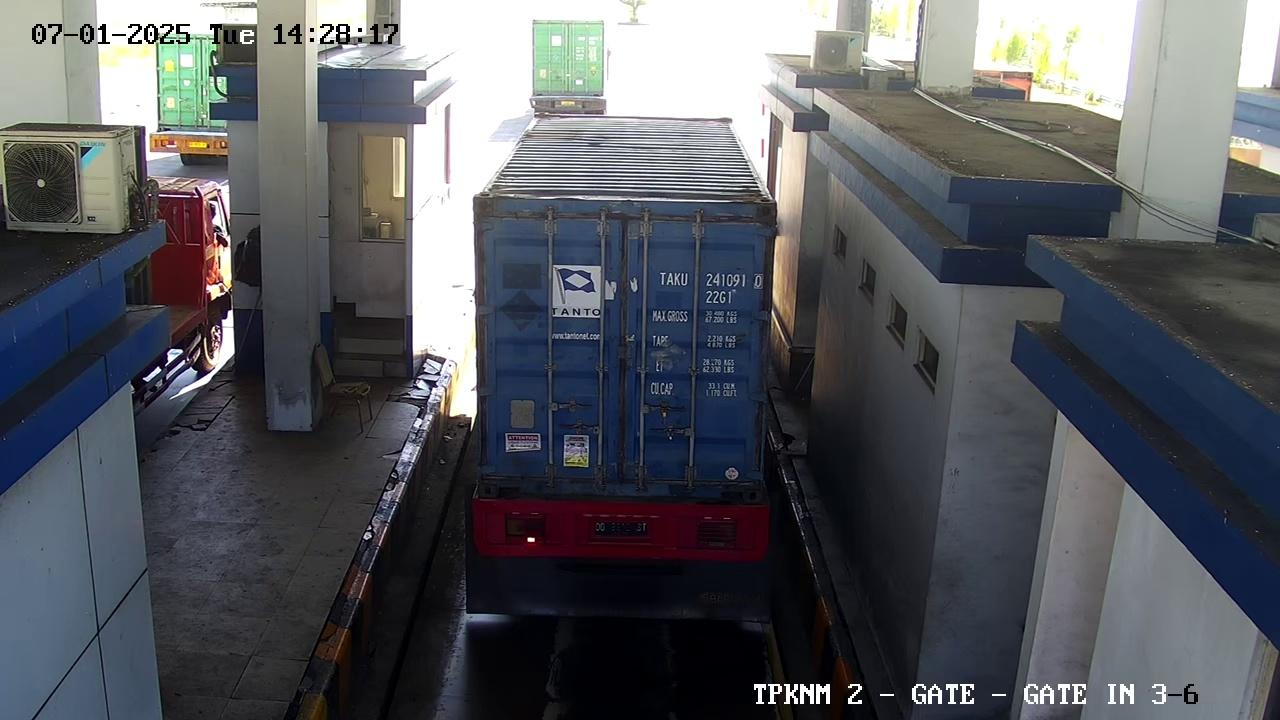Container_ID: (651, 265, 785, 306)
